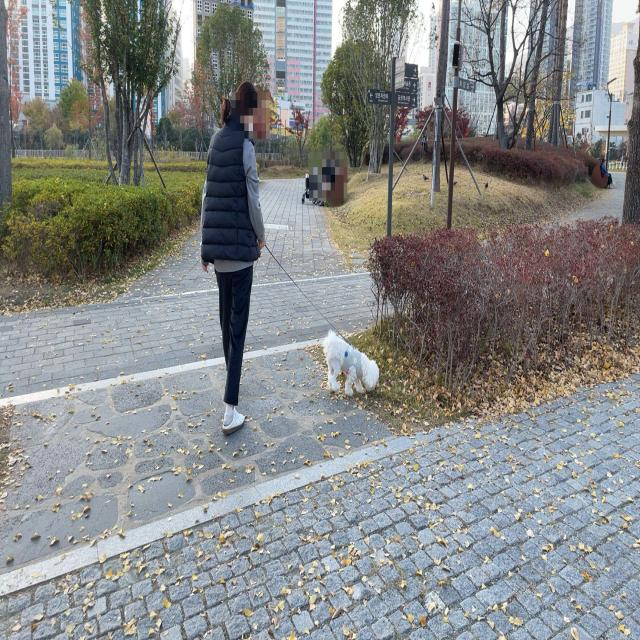Leashed_Dog: (233, 234, 381, 398)
